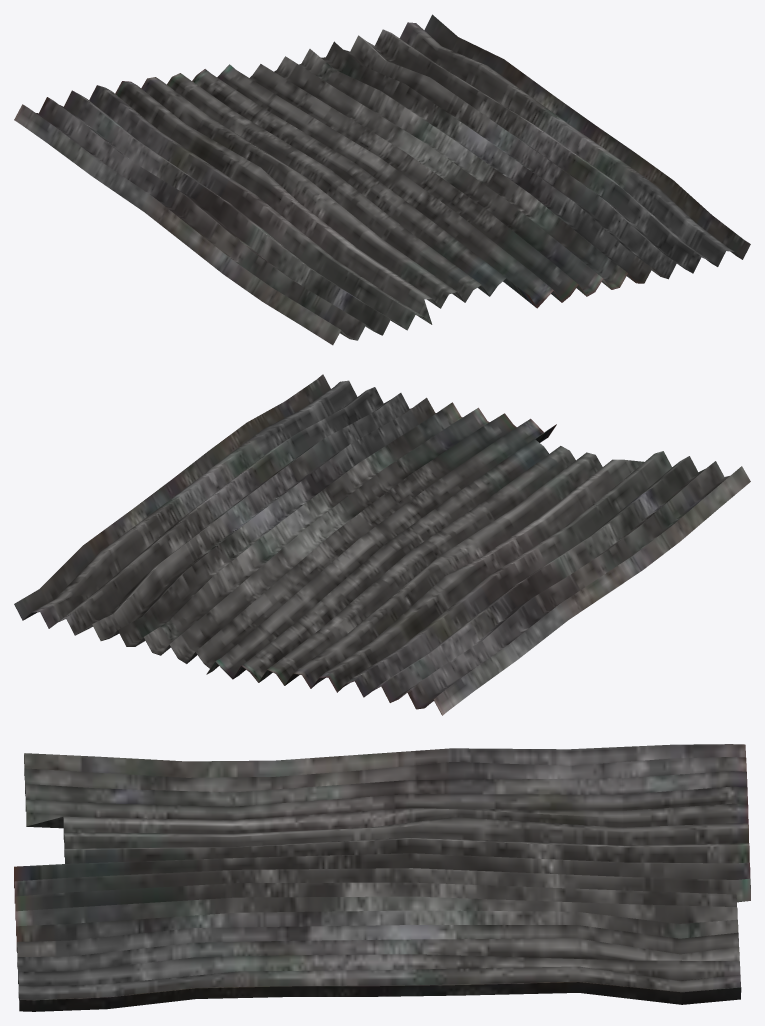
File: Metal_Sheet_04.glb
3 views of the same model, one above another, from view 1: azimuth 30°, elevation 25°; view 2: azimuth 150°, elevation 25°; view 3: azimuth 270°, elevation 25° (orthographic). The views are drawn at different scales.
Visible parts, largest first — view 1: Metal_Sheet_04; view 2: Metal_Sheet_04; view 3: Metal_Sheet_04.
Part boxes in pixels (x1,y1,x2,y2): Metal_Sheet_04: (14, 14, 750, 345); Metal_Sheet_04: (14, 374, 750, 715); Metal_Sheet_04: (14, 744, 750, 1011).
Bounding box in the file's own units: 2.63 × 0.1931 × 3.37.
1 material, 1 textured.
